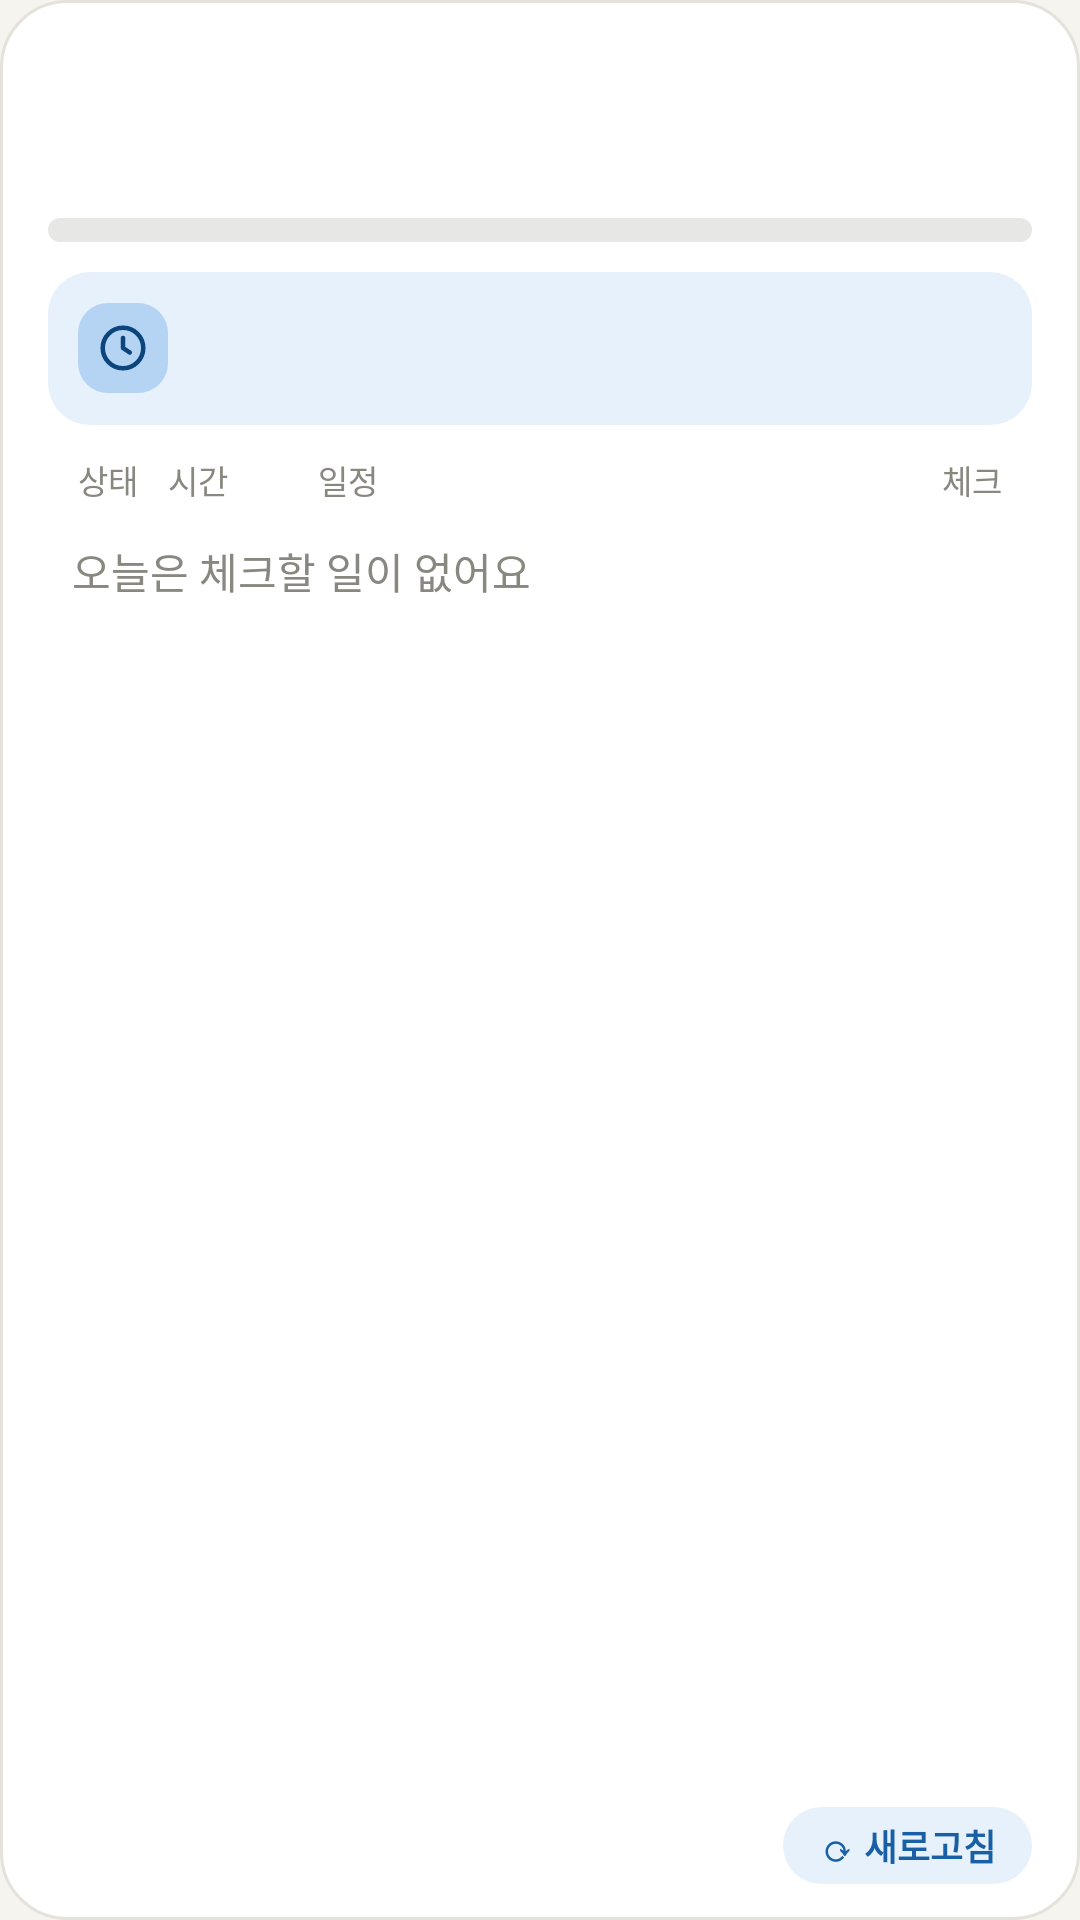

Icons on this 1080px x 1920px Android screen, each with its box as (x1, y1, x2, y2):
clock: (78, 303, 168, 393)
